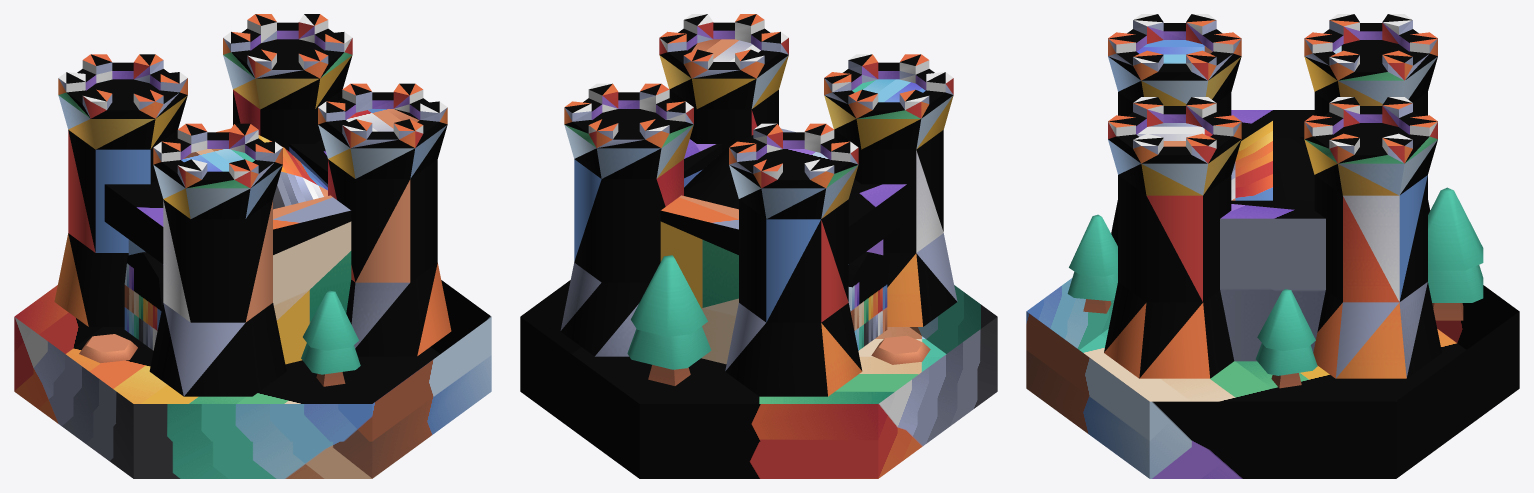
The model's file is building-castle.fbx.
The picture shows the model from 3 angles, left to right: view 1: azimuth 30°, elevation 25°; view 2: azimuth 150°, elevation 25°; view 3: azimuth 270°, elevation 25°; orthographic projection. The views are drawn at different scales.
Parts seen in each view (by area): view 1: building_castle, building_castle.007, building_castle.008, building_castle.004, building_castle.009, building_castle.005, building_castle.002; view 2: building_castle, building_castle.007, building_castle.001, building_castle.008, building_castle.009, building_castle.005, building_castle.002; view 3: building_castle, building_castle.007, building_castle.001, building_castle.005, building_castle.008, building_castle.003, building_castle.004.
Part boxes in pixels (x1=…): building_castle: x1=54, y1=14, x2=451, y2=396; building_castle.007: x1=14, y1=280, x2=491, y2=478; building_castle.008: x1=86, y1=39, x2=419, y2=171; building_castle.004: x1=301, y1=290, x2=360, y2=386; building_castle.009: x1=124, y1=251, x2=163, y2=350; building_castle.005: x1=258, y1=135, x2=327, y2=209; building_castle.002: x1=79, y1=334, x2=137, y2=363; building_castle: x1=560, y1=14, x2=957, y2=396; building_castle.007: x1=520, y1=280, x2=997, y2=478; building_castle.001: x1=627, y1=255, x2=711, y2=385; building_castle.008: x1=596, y1=39, x2=925, y2=171; building_castle.009: x1=848, y1=251, x2=887, y2=350; building_castle.005: x1=684, y1=135, x2=753, y2=209; building_castle.002: x1=871, y1=335, x2=930, y2=364; building_castle: x1=1104, y1=14, x2=1441, y2=378; building_castle.007: x1=1026, y1=278, x2=1519, y2=478; building_castle.001: x1=1428, y1=187, x2=1483, y2=320; building_castle.005: x1=1231, y1=121, x2=1314, y2=200; building_castle.008: x1=1137, y1=40, x2=1408, y2=146; building_castle.003: x1=1255, y1=289, x2=1317, y2=388; building_castle.004: x1=1067, y1=214, x2=1117, y2=313.
Bounding box in the file's own units: 100 × 79.8 × 115.
